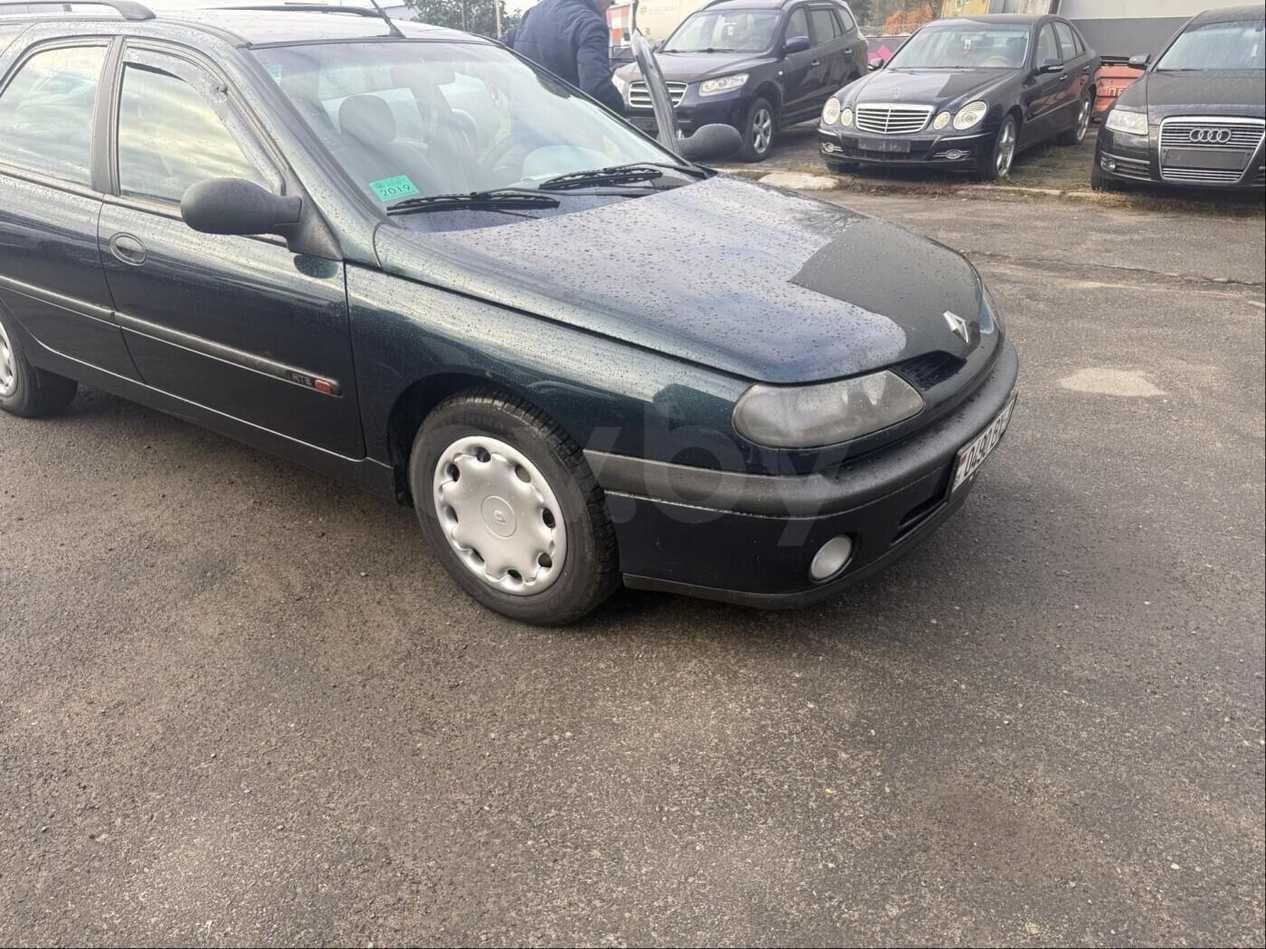Laguna_1998-2001: (0, 3, 1033, 652)
